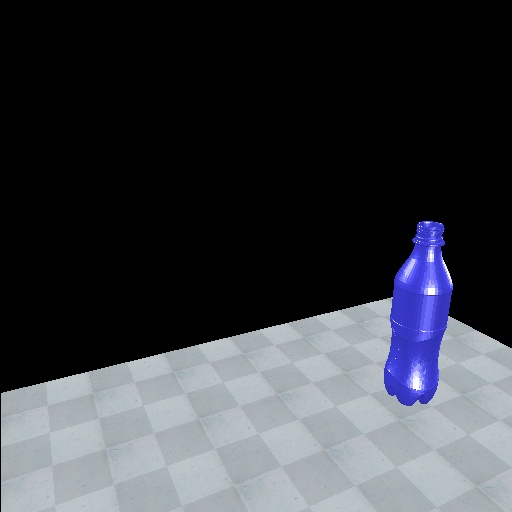bottle: (383, 218, 456, 408)
